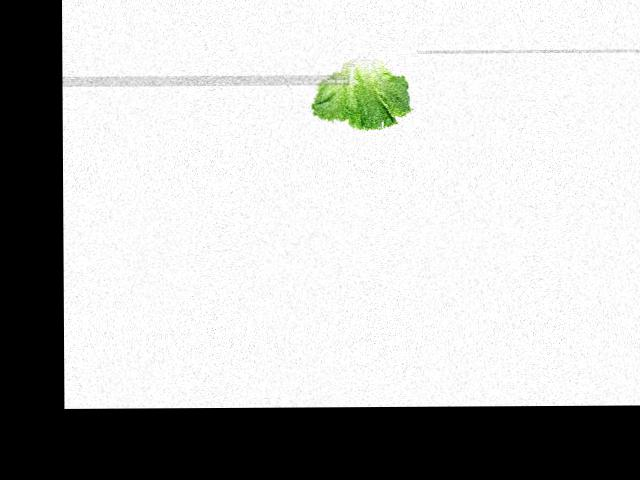lettuce: (315, 56, 411, 129)
